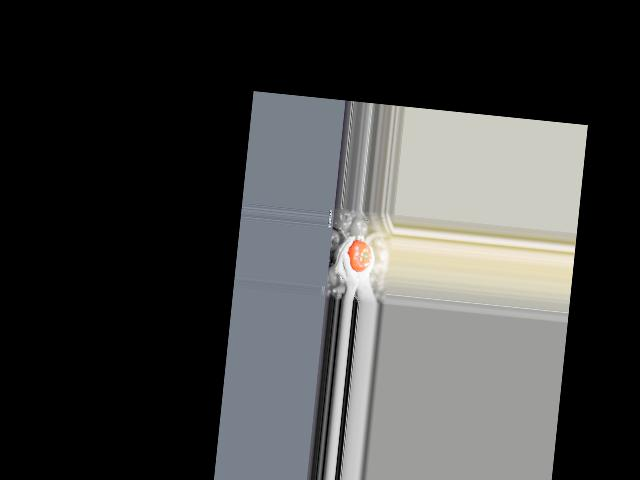tomato: (345, 239, 372, 273)
